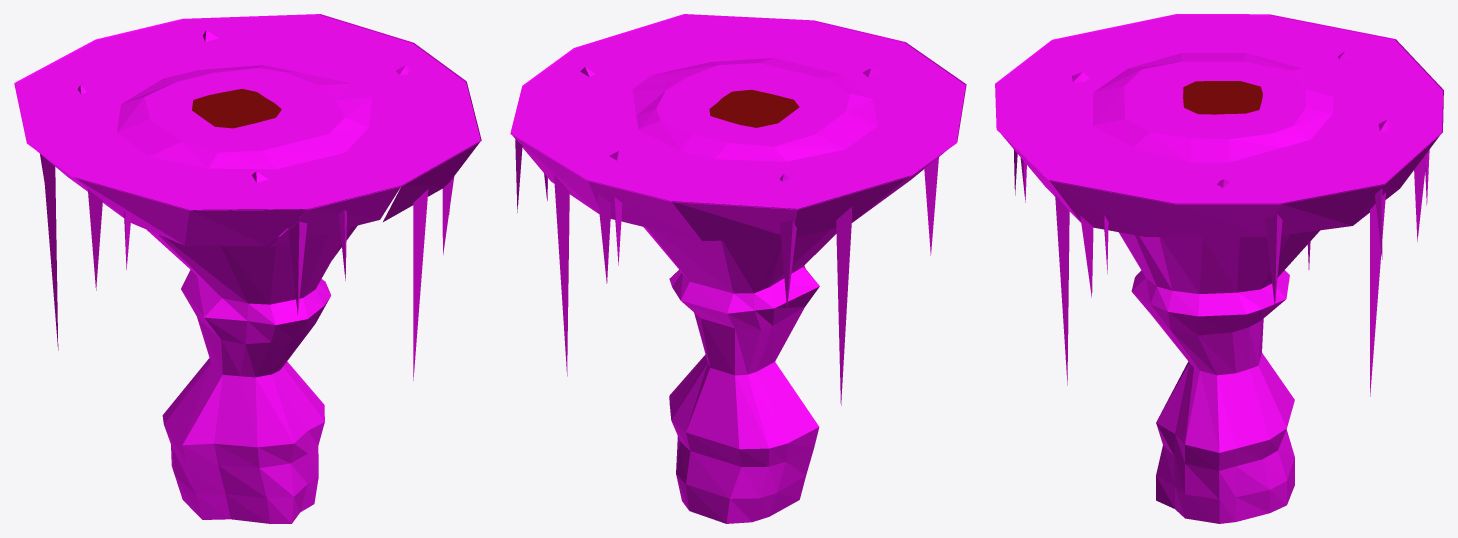
The model's file is cave platform small2.obj.
The picture shows the model from 3 angles, left to right: view 1: azimuth 30°, elevation 25°; view 2: azimuth 150°, elevation 25°; view 3: azimuth 270°, elevation 25°; orthographic projection. The views are drawn at different scales.
Parts seen in each view (by area): view 1: cave platform small2_back; view 2: cave platform small2_back; view 3: cave platform small2_back.
Part boxes in pixels (bbox=[...]): cave platform small2_back: bbox=[14, 14, 481, 523]; cave platform small2_back: bbox=[510, 14, 966, 523]; cave platform small2_back: bbox=[995, 14, 1443, 523].
Size of the model in its own units: 8.98 by 8.75 by 8.98.
